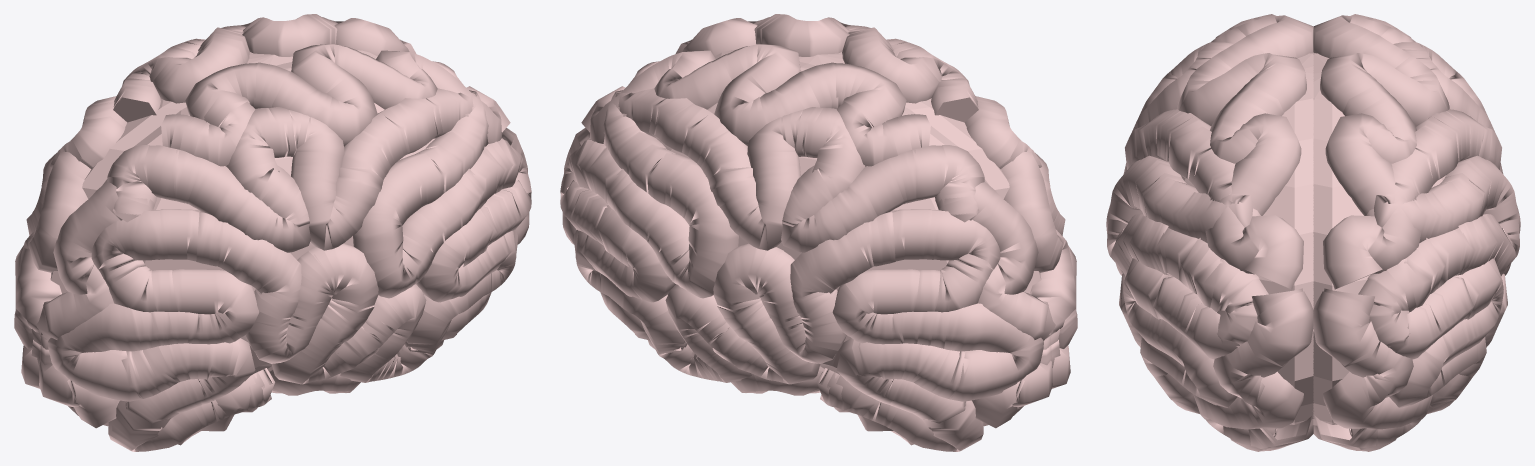
Rendered from brain.fbx.
3 views of the same model, side by side, from view 1: azimuth 30°, elevation 25°; view 2: azimuth 150°, elevation 25°; view 3: azimuth 270°, elevation 25° (orthographic). The views are drawn at different scales.
Visible parts, largest first — view 1: polySurface11; view 2: polySurface11; view 3: polySurface11.
Part boxes in pixels (x1=…): polySurface11: x1=14, y1=14, x2=531, y2=451; polySurface11: x1=560, y1=14, x2=1077, y2=451; polySurface11: x1=1106, y1=14, x2=1520, y2=451.
Size of the model in its own units: 4.54 by 3.32 by 3.21.
